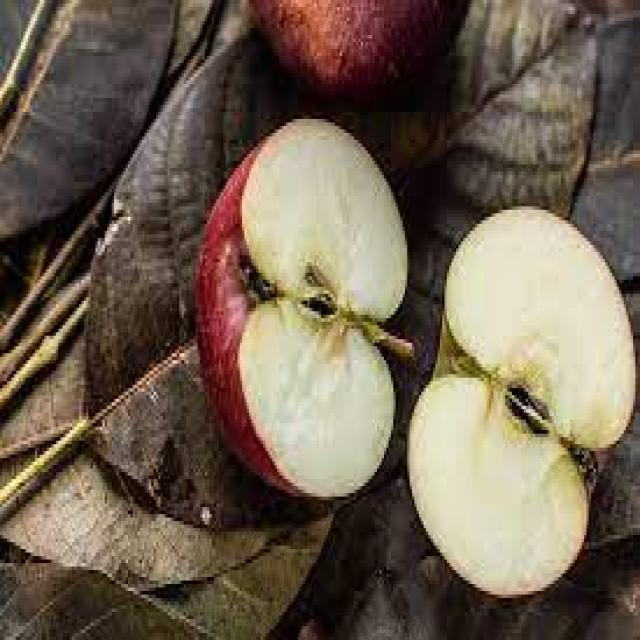Apple: (406, 207, 636, 596), (194, 116, 405, 498), (248, 2, 467, 89)
